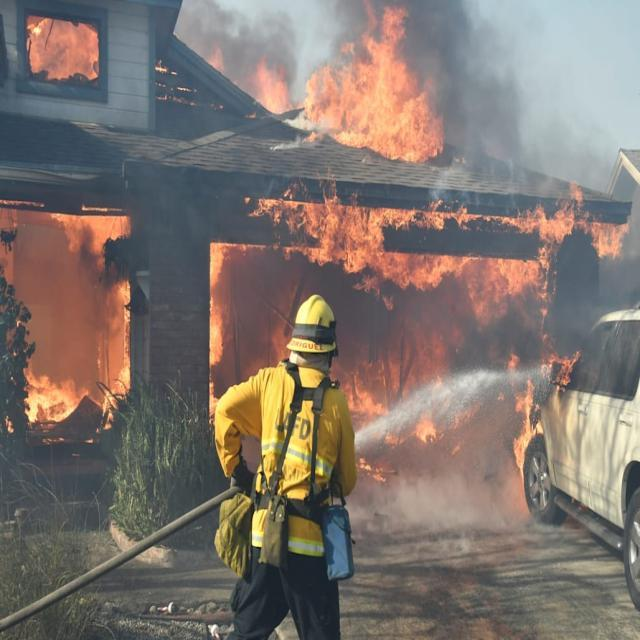Fire: (236, 186, 638, 326), (296, 2, 449, 165), (20, 6, 106, 100), (40, 202, 134, 280), (18, 343, 89, 439), (498, 346, 544, 464), (202, 233, 228, 422), (242, 48, 296, 124), (112, 280, 142, 412), (336, 363, 396, 421), (409, 402, 454, 452)
Smoke: (392, 0, 614, 194), (169, 0, 302, 81)
